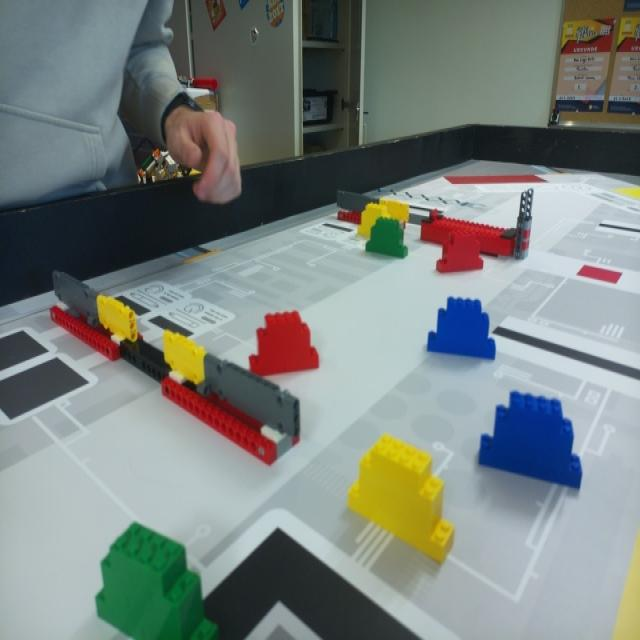blau: (484, 390, 578, 488), (428, 297, 496, 362)
gruen: (95, 518, 219, 640), (364, 218, 409, 260)
rot: (250, 312, 321, 378), (436, 228, 484, 275)
yellow: (348, 432, 454, 562), (359, 204, 389, 234)
